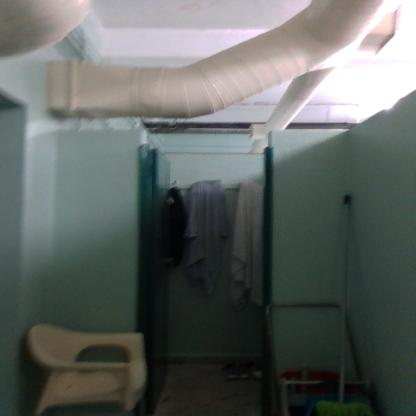open: (134, 128, 280, 398)
